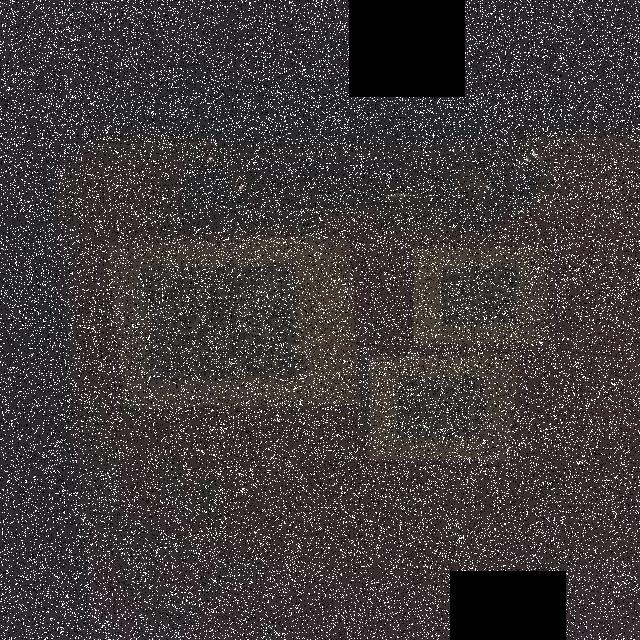QR_CODE: (126, 250, 318, 391), (378, 365, 503, 454), (420, 256, 532, 338)
